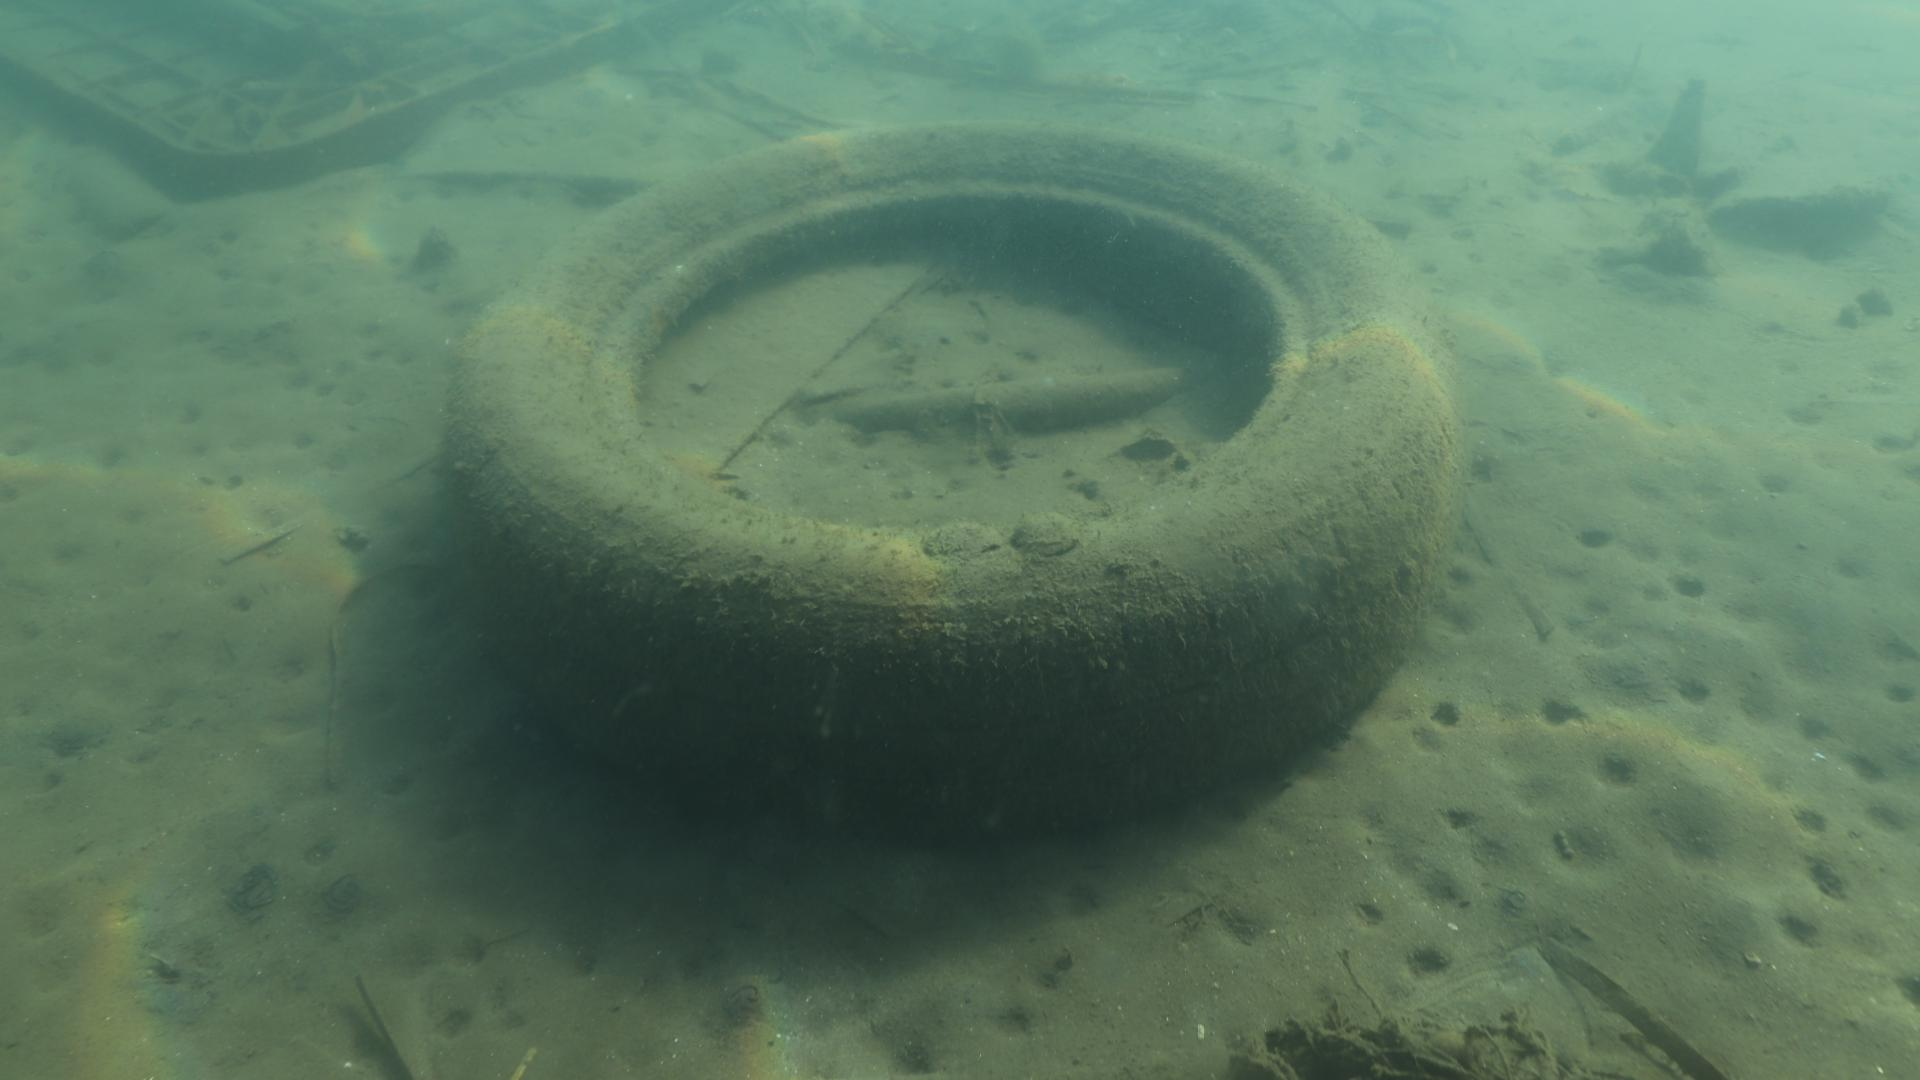tire: (456, 119, 1462, 822)
